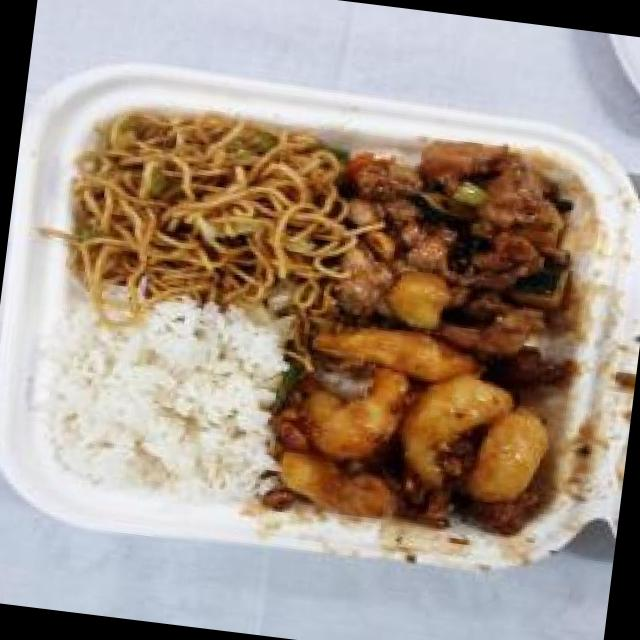Chow Mein: (59, 94, 356, 324)
Honey Walnut Shrimp: (258, 320, 573, 554)
Kung Pao Chicken: (329, 130, 602, 372)
White Steamed Rice: (36, 290, 290, 508)
